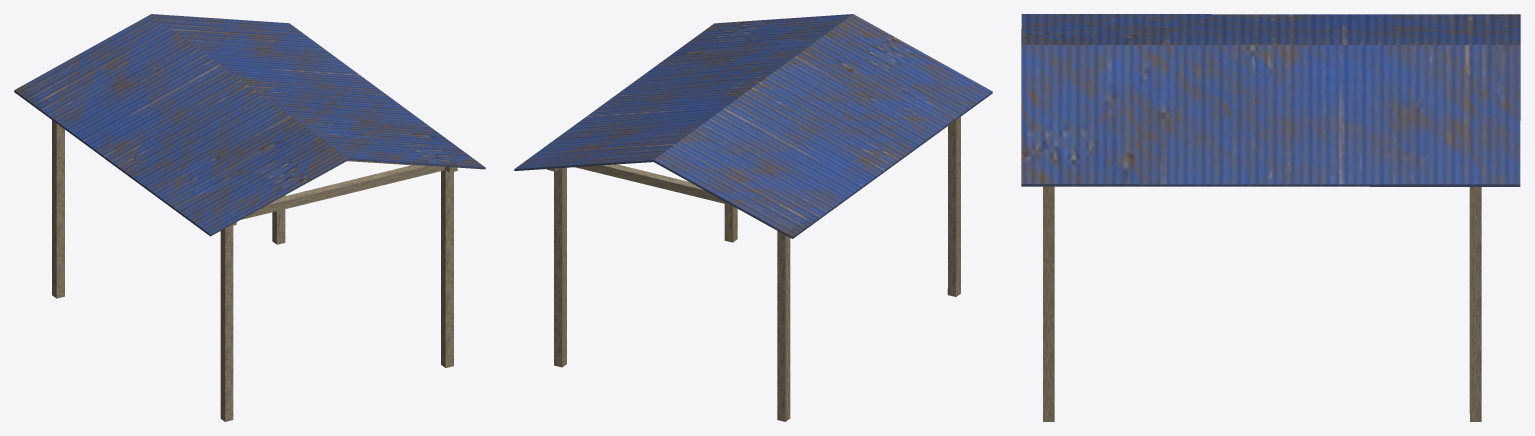
Rendered from roof.fbx.
3 views of the same model, side by side, from view 1: azimuth 30°, elevation 25°; view 2: azimuth 150°, elevation 25°; view 3: azimuth 270°, elevation 25° (orthographic). The views are drawn at different scales.
Parts seen in each view (by area): view 1: roof; view 2: roof; view 3: roof.
Part boxes in pixels (left/top/right/bottom): roof: left=14, top=14, right=485, bottom=421; roof: left=514, top=14, right=992, bottom=421; roof: left=1021, top=14, right=1520, bottom=421.
Bounding box in the file's own units: 3.3 × 2.76 × 4.08.
